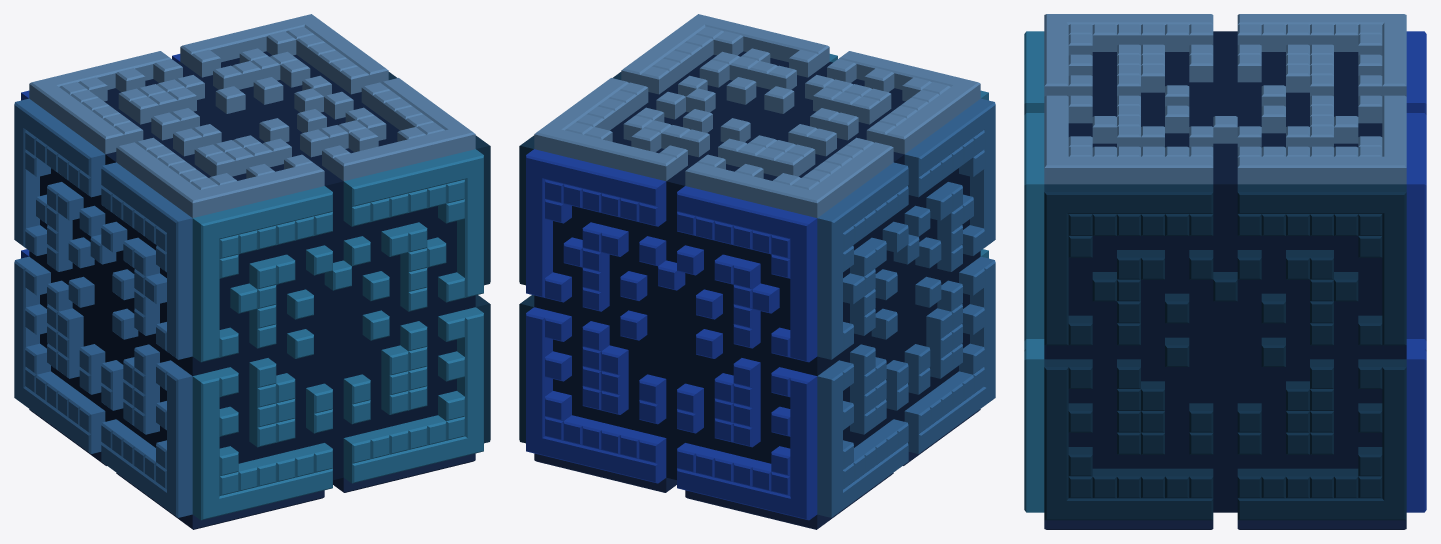
The model's file is Level1BlockoutScogginsFixed.fbx.
3 views of the same model, side by side, from view 1: azimuth 30°, elevation 25°; view 2: azimuth 150°, elevation 25°; view 3: azimuth 270°, elevation 25° (orthographic). The views are drawn at different scales.
Visible parts, largest first — view 1: polySurface995, polySurface896 (×5), polySurface996, polySurface875 (×5), polySurface981 (×3), polySurface990 (×3), polySurface923 (×3), polySurface951 (×3), polySurface998, polySurface913 (×3), polySurface887 (×3), polySurface940 (×3) (+36 smaller); view 2: polySurface997, polySurface981 (×5), polySurface996, polySurface990 (×5), polySurface896 (×3), polySurface875 (×3), polySurface951 (×3), polySurface923 (×3), polySurface998, polySurface940 (×3), polySurface956 (×3), polySurface913 (×3) (+36 smaller); view 3: polySurface994, polySurface998, polySurface940 (×5), polySurface913 (×5), polySurface990 (×3), polySurface875 (×3), polySurface956 (×2), polySurface887 (×2), polySurface981 (×3), polySurface896 (×3), polySurface989 (×4), polySurface901 (×4) (+35 smaller).
Boxes of the visible parts, x1=… form: polySurface995: x1=192, y1=181, x2=475, y2=479; polySurface896 (×5): x1=14, y1=23, x2=490, y2=492; polySurface996: x1=29, y1=154, x2=192, y2=447; polySurface875 (×5): x1=14, y1=51, x2=490, y2=520; polySurface981 (×3): x1=167, y1=134, x2=483, y2=359; polySurface990 (×3): x1=167, y1=162, x2=483, y2=478; polySurface923 (×3): x1=47, y1=79, x2=295, y2=447; polySurface951 (×3): x1=123, y1=135, x2=427, y2=434; polySurface998: x1=104, y1=51, x2=399, y2=185; polySurface913 (×3): x1=35, y1=29, x2=388, y2=234; polySurface887 (×3): x1=36, y1=90, x2=332, y2=491; polySurface940 (×3): x1=101, y1=78, x2=451, y2=223; polySurface997: x1=534, y1=181, x2=817, y2=479; polySurface981 (×5): x1=519, y1=23, x2=995, y2=492; polySurface996: x1=817, y1=154, x2=980, y2=447; polySurface990 (×5): x1=519, y1=51, x2=995, y2=520; polySurface896 (×3): x1=526, y1=134, x2=842, y2=359; polySurface875 (×3): x1=526, y1=162, x2=842, y2=478; polySurface951 (×3): x1=714, y1=79, x2=962, y2=447; polySurface923 (×3): x1=582, y1=135, x2=886, y2=434; polySurface998: x1=610, y1=51, x2=905, y2=185; polySurface940 (×3): x1=621, y1=29, x2=974, y2=234; polySurface956 (×3): x1=677, y1=90, x2=973, y2=491; polySurface913 (×3): x1=558, y1=78, x2=908, y2=223; polySurface994: x1=1044, y1=184, x2=1406, y2=512; polySurface998: x1=1068, y1=31, x2=1382, y2=184; polySurface940 (×5): x1=1024, y1=52, x2=1426, y2=529; polySurface913 (×5): x1=1024, y1=52, x2=1426, y2=529; polySurface990 (×3): x1=1024, y1=33, x2=1406, y2=477; polySurface875 (×3): x1=1044, y1=33, x2=1426, y2=477; polySurface956 (×2): x1=1092, y1=24, x2=1358, y2=498; polySurface887 (×2): x1=1092, y1=24, x2=1358, y2=498; polySurface981 (×3): x1=1024, y1=95, x2=1406, y2=345; polySurface896 (×3): x1=1044, y1=95, x2=1426, y2=345; polySurface989 (×4): x1=1024, y1=145, x2=1406, y2=529; polySurface901 (×4): x1=1044, y1=145, x2=1426, y2=529.
Bounding box in the file's own units: 50.03 × 50.03 × 50.03.
